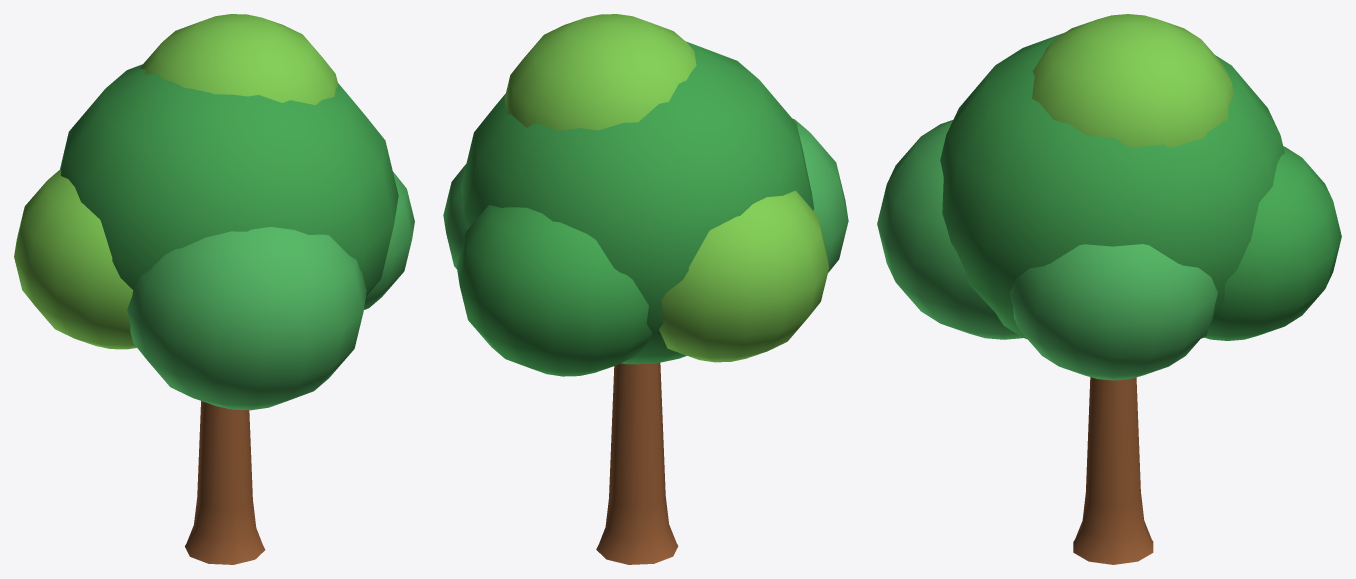
Rendered from arvore_redonda_media.glb.
3 views of the same model, side by side, from view 1: azimuth 30°, elevation 25°; view 2: azimuth 150°, elevation 25°; view 3: azimuth 270°, elevation 25° (orthographic). The views are drawn at different scales.
Visible parts, largest first — view 1: arvore_redonda_media; view 2: arvore_redonda_media; view 3: arvore_redonda_media.
Part boxes in pixels (bbox=[...]): arvore_redonda_media: bbox=[14, 14, 414, 564]; arvore_redonda_media: bbox=[443, 14, 848, 564]; arvore_redonda_media: bbox=[877, 14, 1341, 564].
Size of the model in its own units: 4.31 by 5.83 by 4.62.
Materials: 1 (1 with a texture image).
